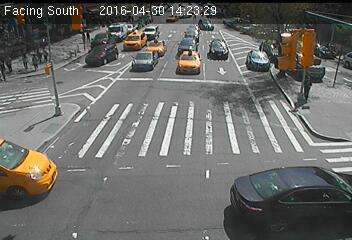neg: (136, 124, 184, 188), (262, 88, 292, 128), (156, 58, 185, 97), (76, 176, 102, 210), (222, 66, 246, 98), (33, 173, 57, 205), (80, 114, 103, 145), (229, 163, 251, 191), (84, 41, 102, 66), (106, 66, 122, 88), (189, 28, 204, 48)
pos: (297, 73, 318, 100), (18, 52, 32, 71), (4, 54, 17, 71), (31, 55, 42, 69)
